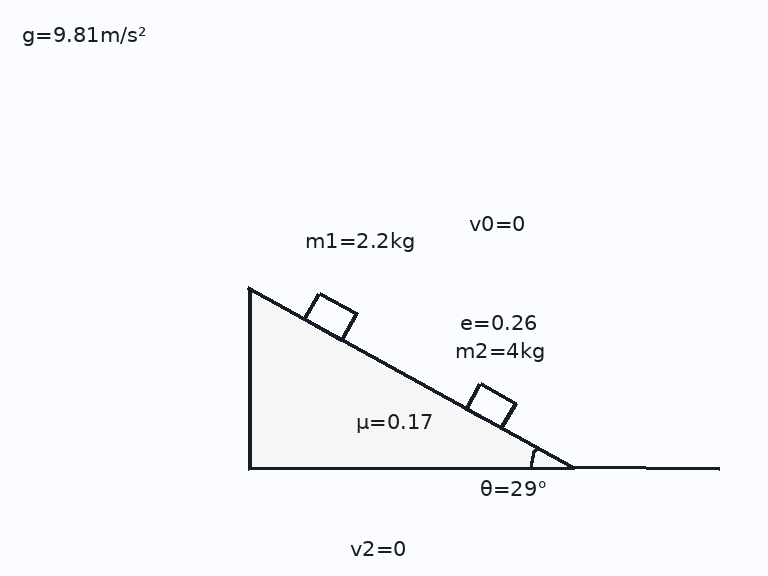block: (303, 291, 358, 342), (464, 381, 516, 430)
ramp: (247, 287, 573, 469)
